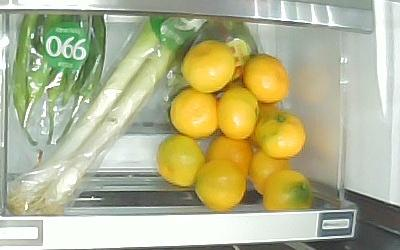tangerine: (180, 40, 235, 93), (196, 159, 246, 210), (157, 136, 205, 186), (204, 133, 254, 180), (170, 89, 218, 137), (256, 111, 306, 157), (217, 87, 261, 139), (242, 54, 288, 103), (262, 170, 312, 210), (249, 150, 292, 195)
